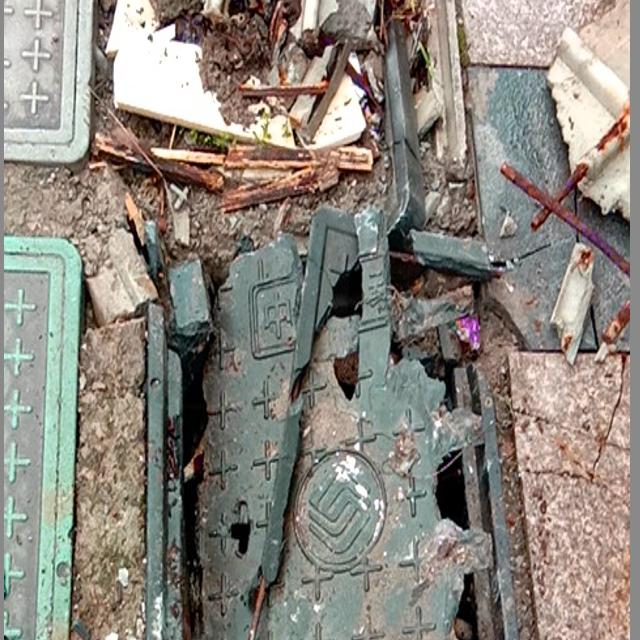broke: (116, 226, 558, 640), (79, 0, 469, 180)
